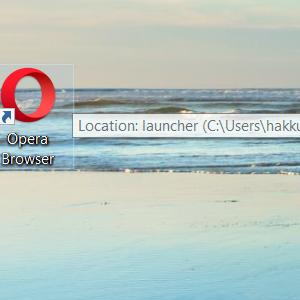opera: (1, 68, 56, 125)
